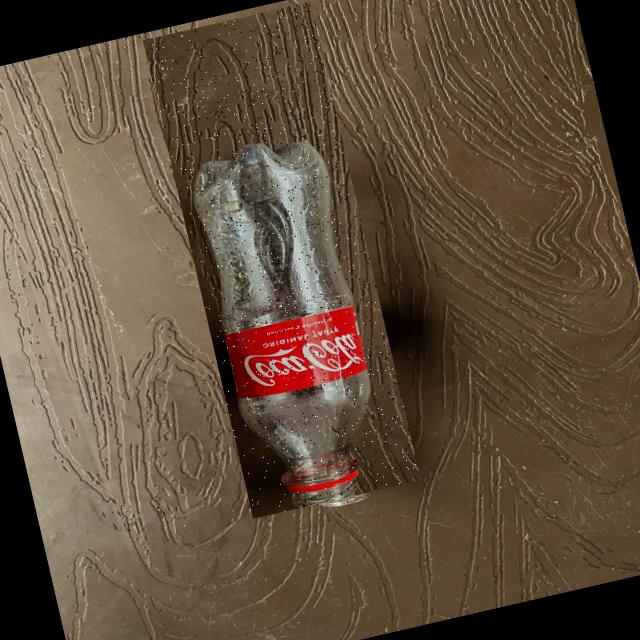REJECT: (142, 1, 420, 518)
